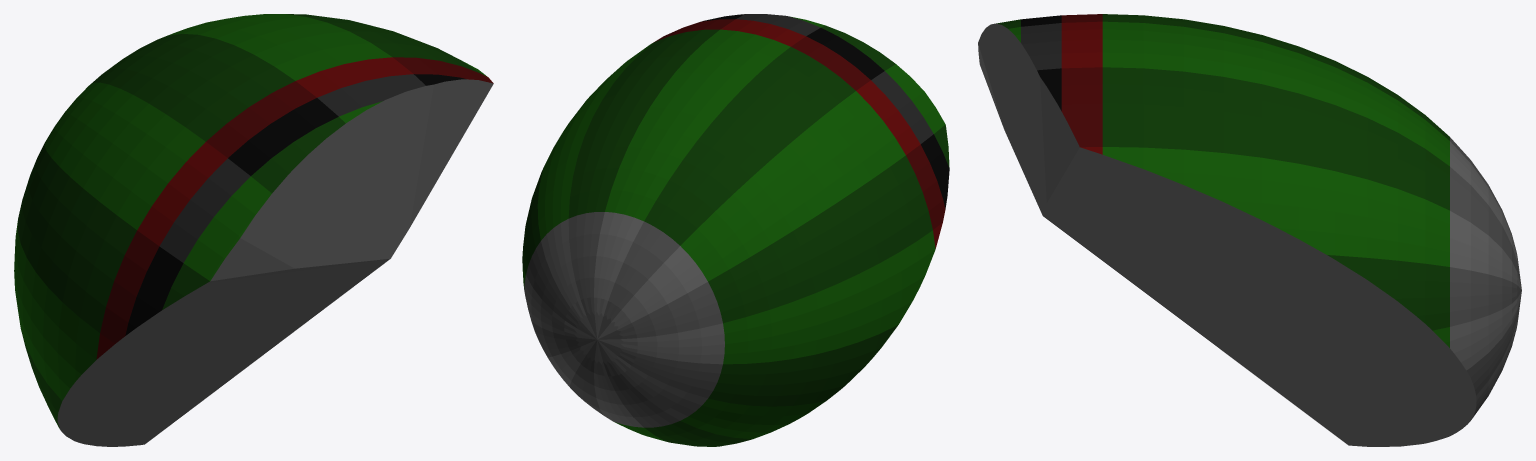
File: Mortarmellon piece5.glb
3 views of the same model, side by side, from view 1: azimuth 30°, elevation 25°; view 2: azimuth 150°, elevation 25°; view 3: azimuth 270°, elevation 25° (orthographic). The views are drawn at different scales.
Visible parts, largest first — view 1: Mortarmelon Body_cell.004; view 2: Mortarmelon Body_cell.004; view 3: Mortarmelon Body_cell.004.
Boxes of the visible parts, box(x1,y1,x2,y2) form: Mortarmelon Body_cell.004: box(14, 14, 493, 446); Mortarmelon Body_cell.004: box(522, 14, 949, 446); Mortarmelon Body_cell.004: box(978, 14, 1521, 446).
Bounding box in the file's own units: 1.68 × 1.73 × 1.94.
